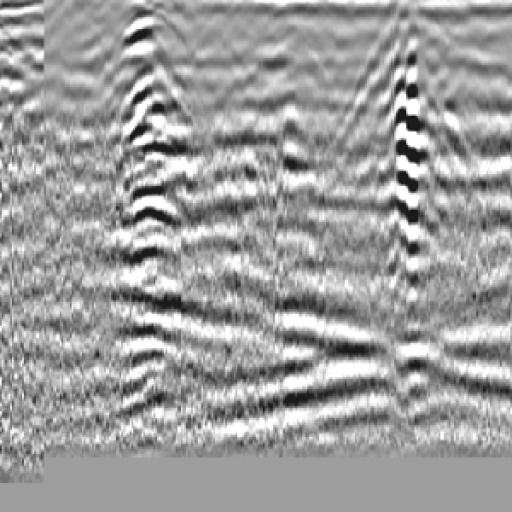metalic: (106, 10, 203, 312)
